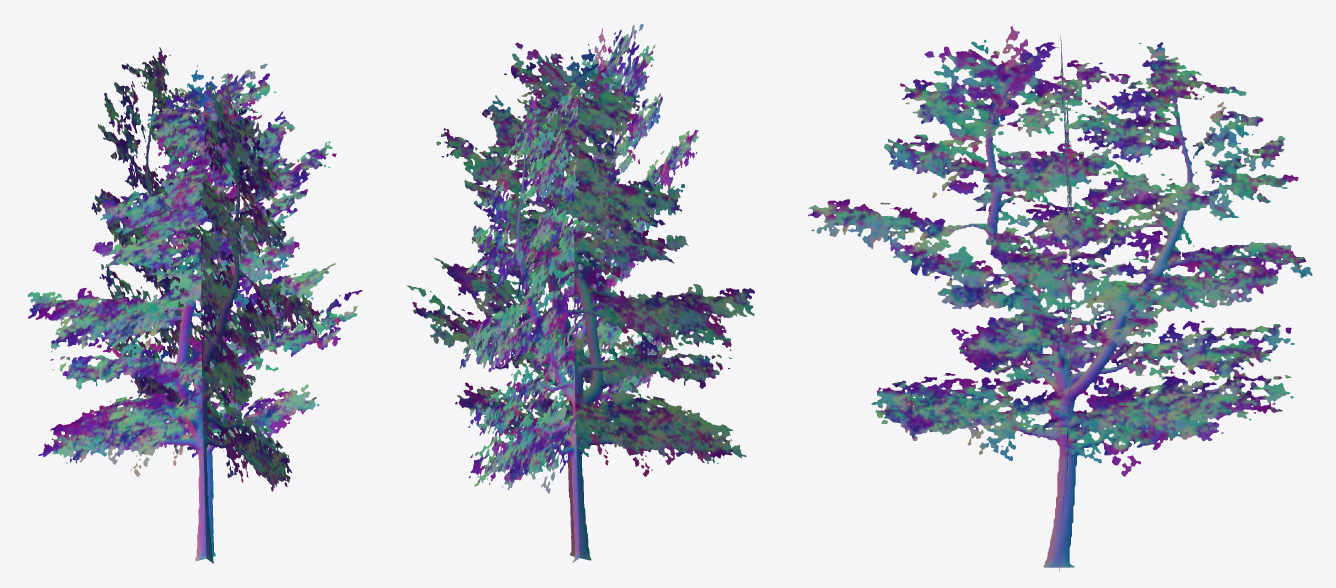
File: beech_tree_05_cross.FBX
The picture shows the model from 3 angles, left to right: view 1: azimuth 30°, elevation 25°; view 2: azimuth 150°, elevation 25°; view 3: azimuth 270°, elevation 25°; orthographic projection. The views are drawn at different scales.
Parts seen in each view (by area): view 1: beech_tree_05_cross; view 2: beech_tree_05_cross; view 3: beech_tree_05_cross.
Boxes of the visible parts, box(x1,y1,x2,y2) form: beech_tree_05_cross: box(27, 47, 362, 563); beech_tree_05_cross: box(407, 24, 754, 562); beech_tree_05_cross: box(808, 26, 1312, 571).
Bounding box in the file's own units: 15713 × 21166 × 18261.
